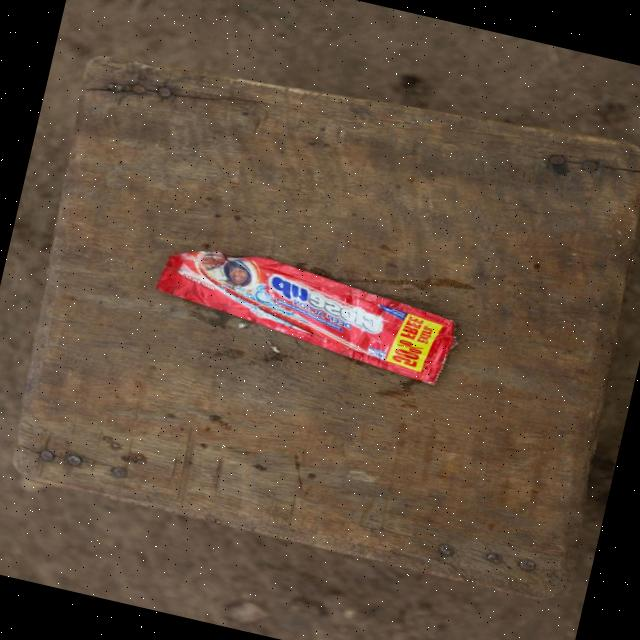Toothpaste: (112, 232, 472, 400)
